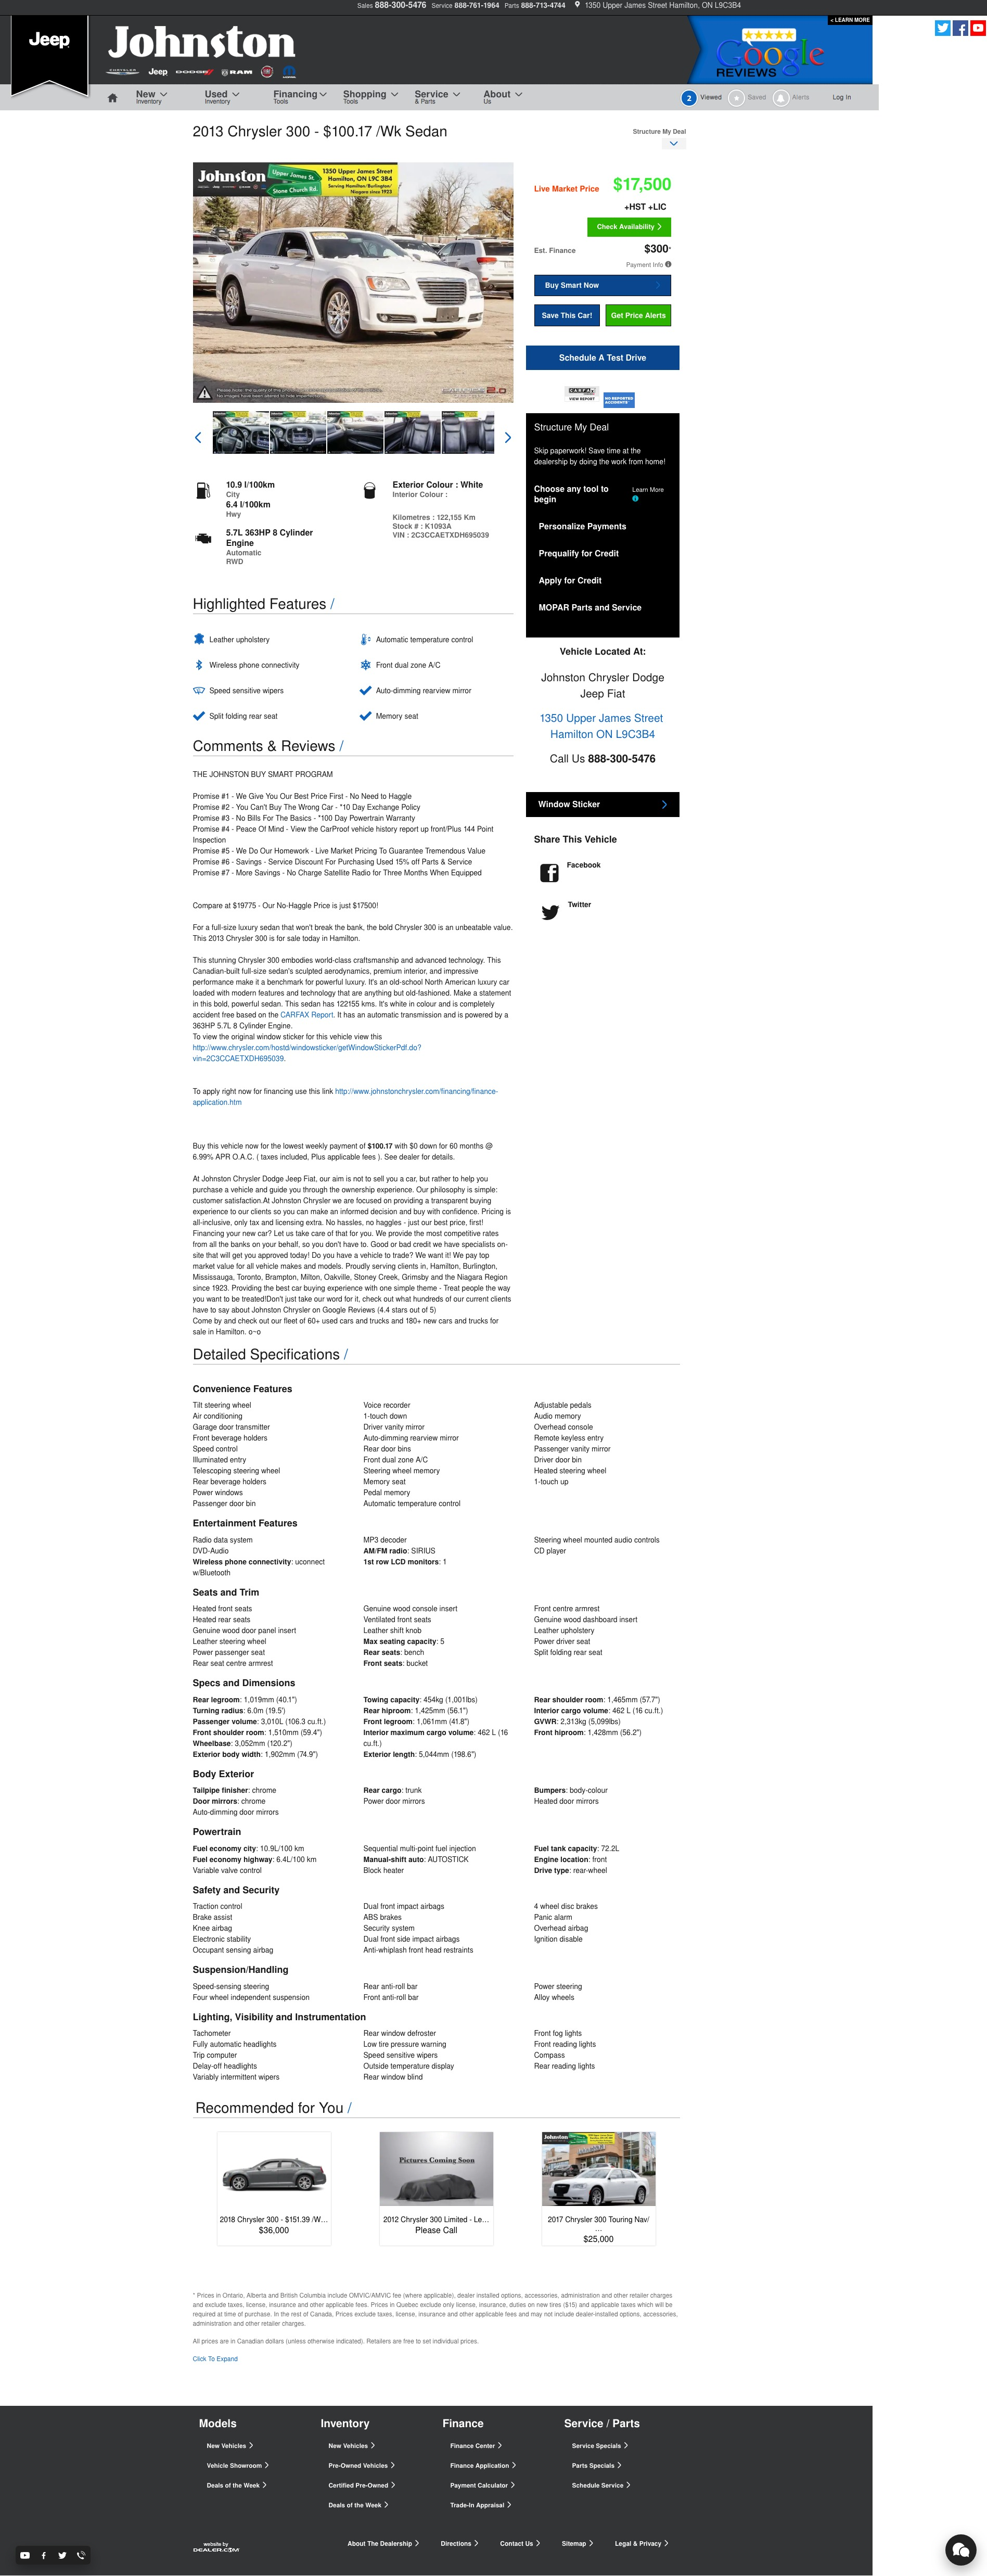car: (504, 432, 512, 444)
